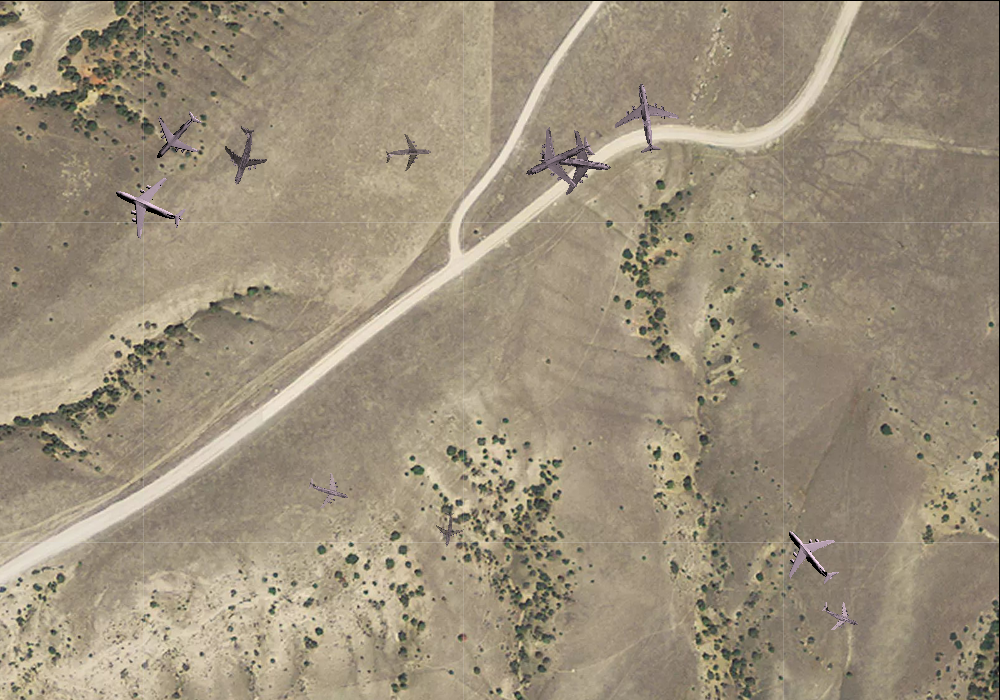plane: (102, 159, 196, 252), (512, 113, 605, 204), (766, 511, 855, 600), (137, 96, 216, 175), (534, 125, 615, 202), (609, 78, 684, 157), (208, 119, 276, 191), (302, 465, 354, 515), (815, 591, 865, 639), (384, 132, 431, 175), (429, 509, 467, 549)
